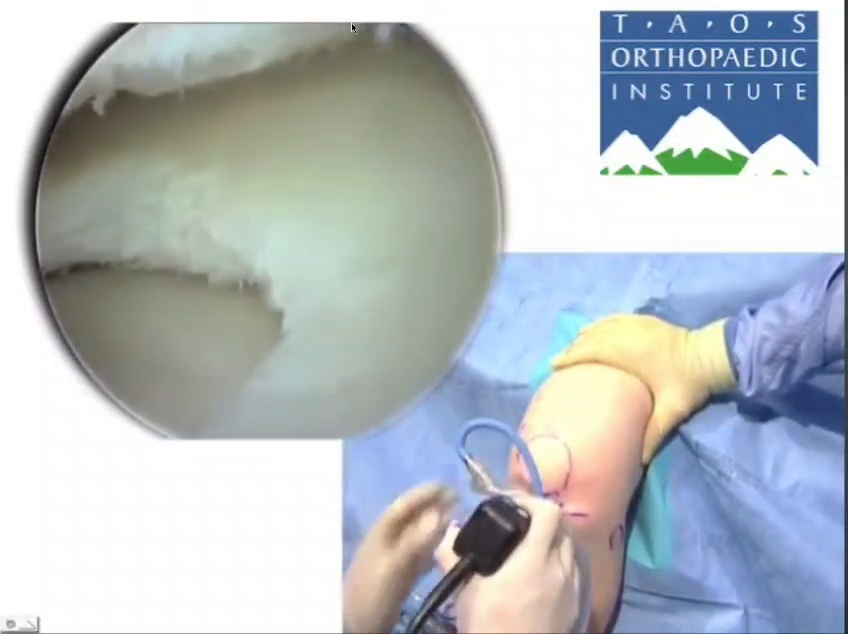arthroscope: (71, 0, 407, 132)
